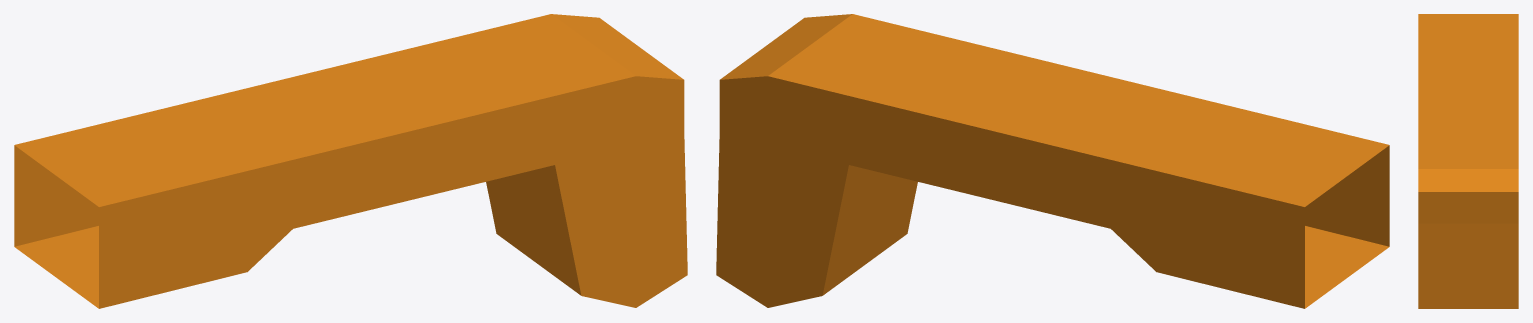
The model's file is stock_04.fbx.
3 views of the same model, side by side, from view 1: azimuth 30°, elevation 25°; view 2: azimuth 150°, elevation 25°; view 3: azimuth 270°, elevation 25° (orthographic). The views are drawn at different scales.
Parts seen in each view (by area): view 1: butt_3; view 2: butt_3; view 3: butt_3.
Part boxes in pixels (x1,y1,x2,y2): butt_3: [14, 14, 687, 308]; butt_3: [716, 14, 1389, 308]; butt_3: [1418, 14, 1518, 308].
Bounding box in the file's own units: 801 × 301 × 200.
